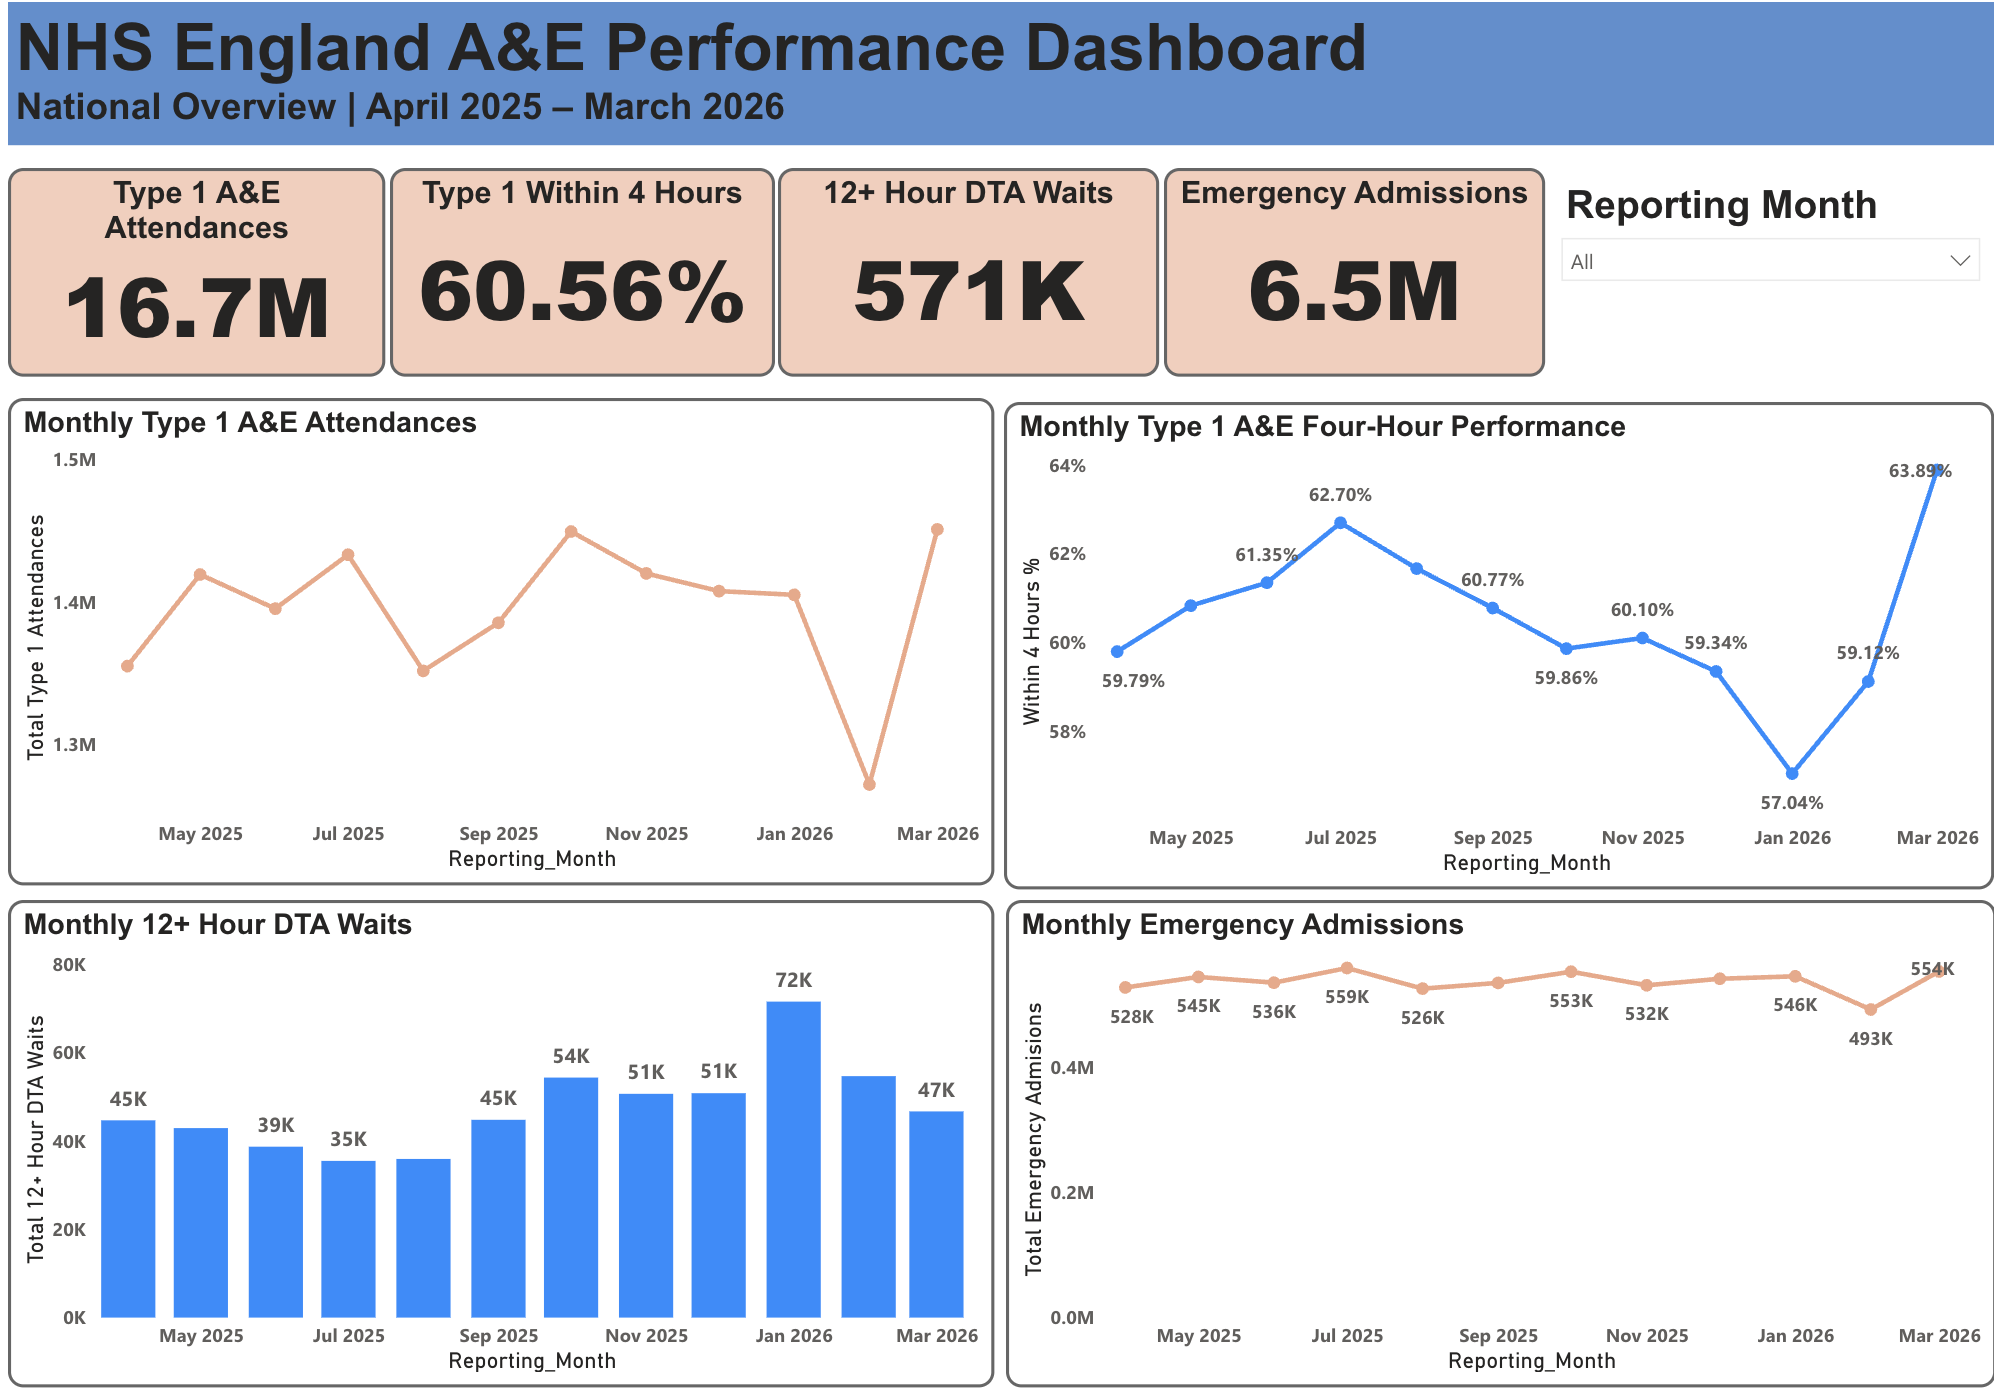

The dashboard page shown, as its layout file describes it:
{"tool":"powerbi","page":{"name":"NHS England Overview","canvas":[1290,900],"ordinal":0},"visuals":[{"type":"textbox","box":[0,0,1290.5,92.9],"z":0},{"type":"card","title":"Type 1 A&E Attendances","fields":{"Values":["NHS_AE_Data.Total Type 1 Attendances"]},"box":[0,107.1,245.2,135.7],"z":1000},{"type":"card","title":"Emergency Admissions","fields":{"Values":["NHS_AE_Data.Total Emergency Admisions"]},"box":[750,107.1,247.6,135.7],"z":2000},{"type":"card","title":"12+ Hour DTA Waits","fields":{"Values":["NHS_AE_Data.Total 12+ Hour DTA Waits"]},"box":[500,107.1,247.6,135.7],"z":3000},{"type":"card","title":"Type 1 Within 4 Hours","fields":{"Values":["NHS_AE_Data.Within 4 Hours %"]},"box":[247.6,107.1,250,135.7],"z":4000},{"type":"lineChart","title":"Monthly Type 1 A&E Attendances","fields":{"Y":["NHS_AE_Data.Total Type 1 Attendances"],"Category":["NHS_AE_Data.Reporting_Month"]},"box":[0,257.1,640.5,316.7],"z":5000},{"type":"lineChart","title":"Monthly Type 1 A&E Four-Hour Performance","fields":{"Category":["NHS_AE_Data.Reporting_Month"],"Y":["NHS_AE_Data.Within 4 Hours %"]},"box":[647.1,259.5,642.9,316.7],"z":6000},{"type":"clusteredColumnChart","title":"Monthly 12+ Hour DTA Waits","fields":{"Category":["NHS_AE_Data.Reporting_Month"],"Y":["NHS_AE_Data.Total 12+ Hour DTA Waits"]},"box":[0,583.3,640.5,316.7],"z":7000},{"type":"lineChart","title":"Monthly Emergency Admissions","fields":{"Category":["NHS_AE_Data.Reporting_Month"],"Y":["NHS_AE_Data.Total Emergency Admisions"]},"box":[647.6,583.3,642.9,316.7],"z":8000},{"type":"slicer","fields":{"Values":["NHS_AE_Data.Reporting_Month"]},"box":[998.4,111.5,291.8,106.6],"z":9000}]}

Visuals, with their boxes in screenshot pixels (x1, y1, x2, y2), scaled from the page's 1290x900 canvas onto the 2002x1392 screenshot:
textbox: 0,0,2001,144
"Type 1 A&E Attendances" card: 0,166,381,376
"Emergency Admissions" card: 1164,166,1548,376
"12+ Hour DTA Waits" card: 776,166,1160,376
"Type 1 Within 4 Hours" card: 384,166,772,376
"Monthly Type 1 A&E Attendances" lineChart: 0,398,994,887
"Monthly Type 1 A&E Four-Hour Performance" lineChart: 1004,401,2001,891
"Monthly 12+ Hour DTA Waits" clusteredColumnChart: 0,902,994,1391
"Monthly Emergency Admissions" lineChart: 1005,902,2001,1391
slicer - NHS_AE_Data.Reporting_Month: 1549,172,2001,337
